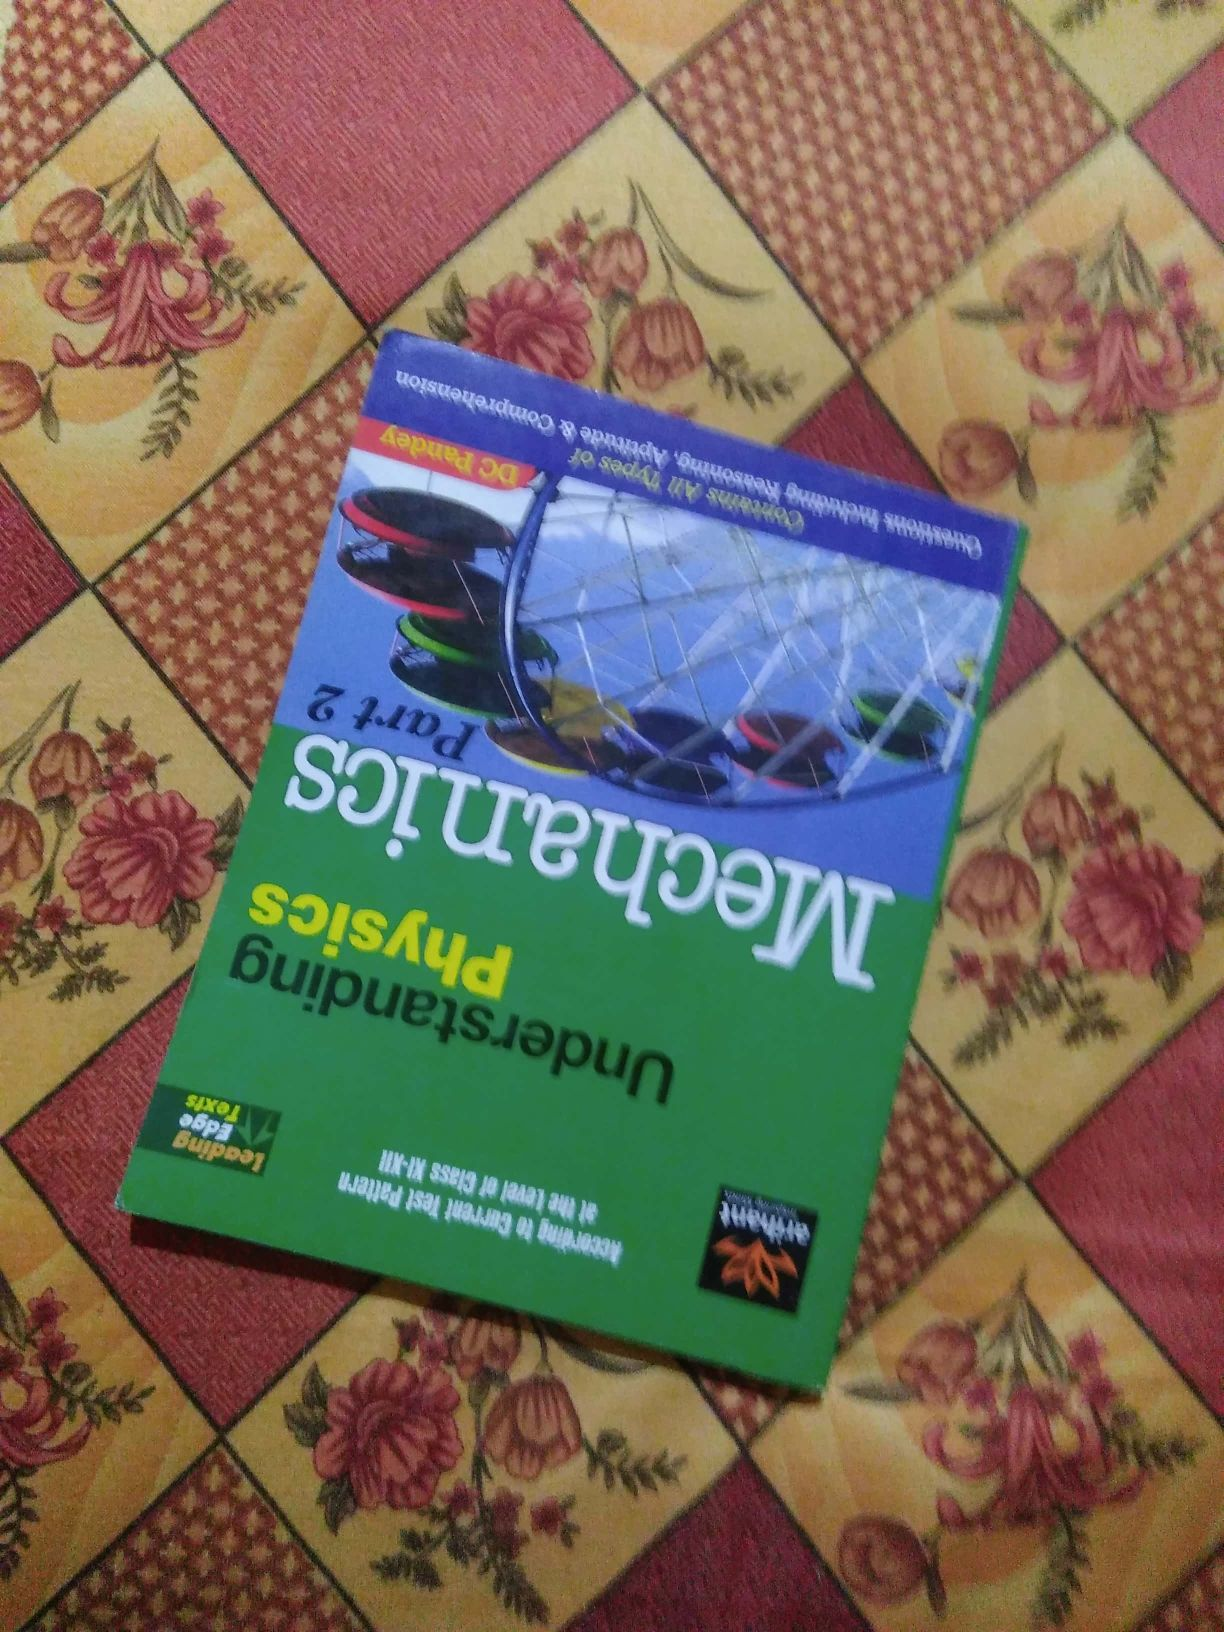mechanics: (148, 332, 993, 1432)
